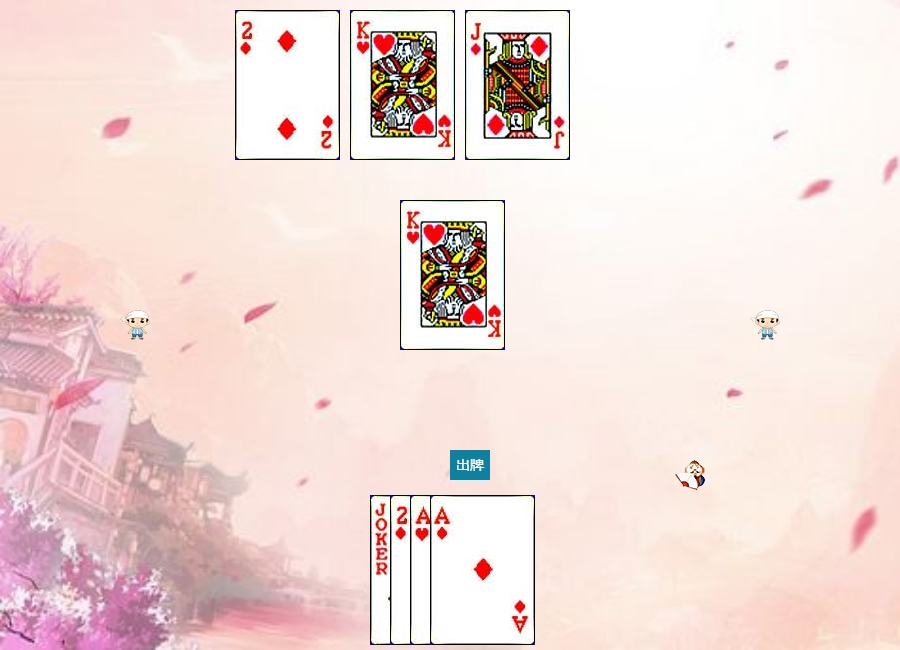11~1: (465, 10, 570, 160)
13~3: (350, 10, 455, 160), (400, 200, 505, 350)
14~1: (430, 495, 535, 645)
14~3: (410, 495, 515, 645)
15~1: (235, 10, 340, 160), (390, 495, 495, 645)
18~4: (370, 495, 475, 645)
